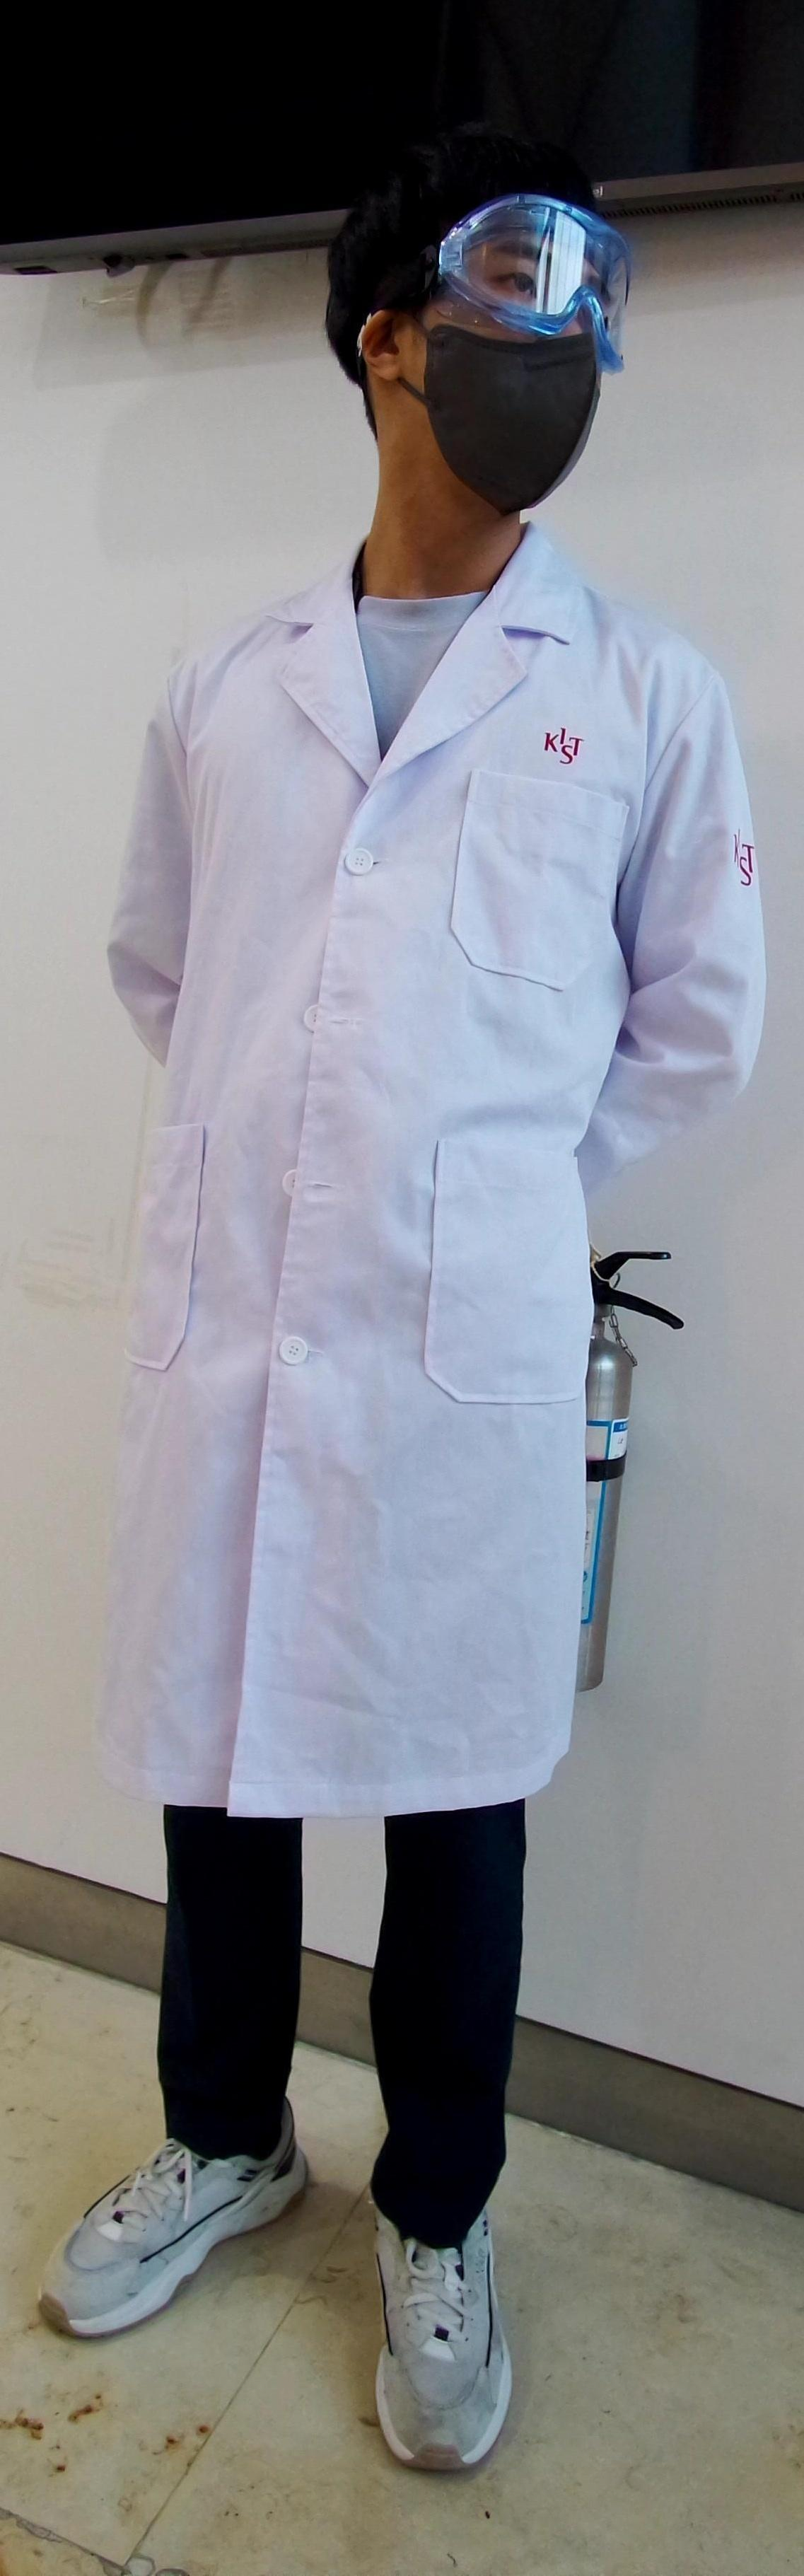lab_coat: (87, 618, 779, 1822)
